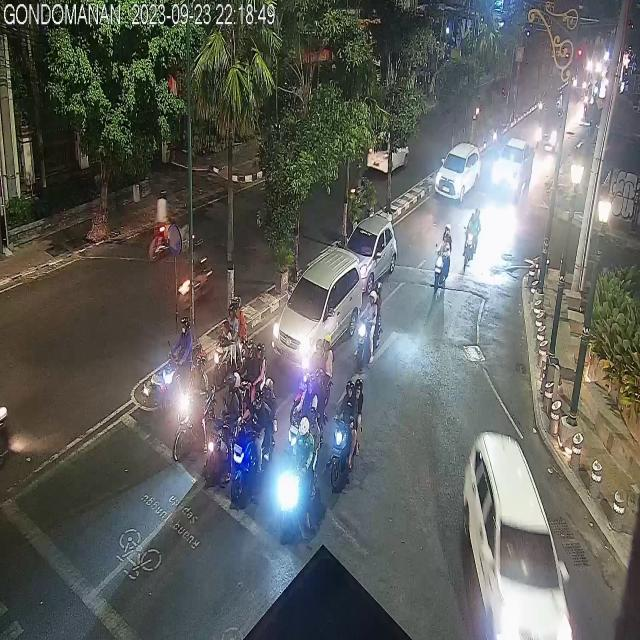car: (462, 431, 578, 640), (273, 242, 360, 365), (345, 212, 398, 289), (434, 142, 482, 204), (366, 130, 411, 182)
motorcycle: (228, 383, 274, 503), (275, 415, 318, 540), (171, 357, 211, 470), (329, 378, 364, 484), (164, 318, 198, 421), (207, 374, 240, 478), (211, 296, 246, 385), (178, 236, 214, 313), (356, 278, 382, 367), (464, 206, 482, 277), (434, 225, 449, 288)
truck: (496, 134, 537, 202)
